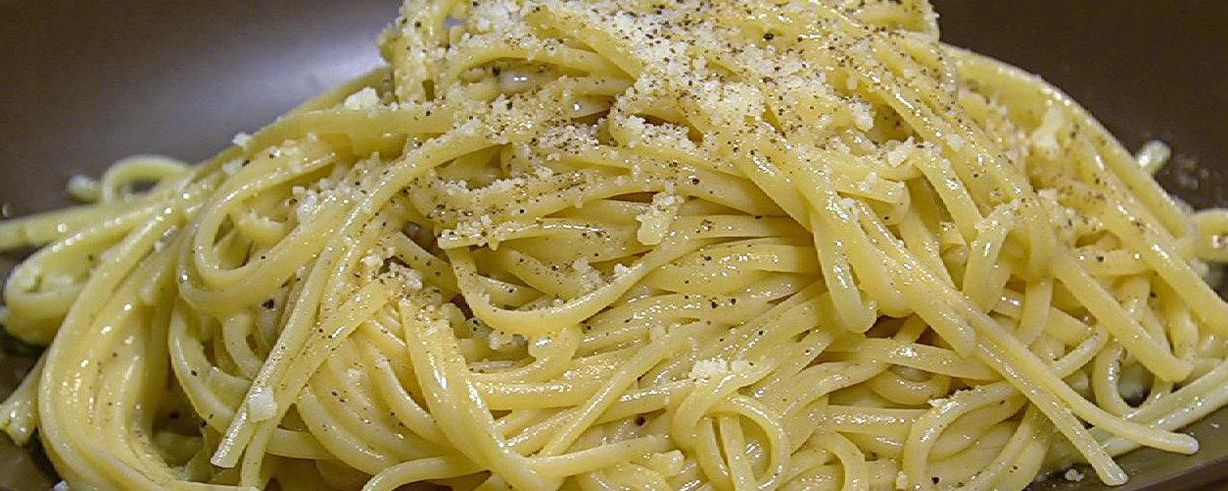plain spaghetti: (20, 7, 1186, 491)
